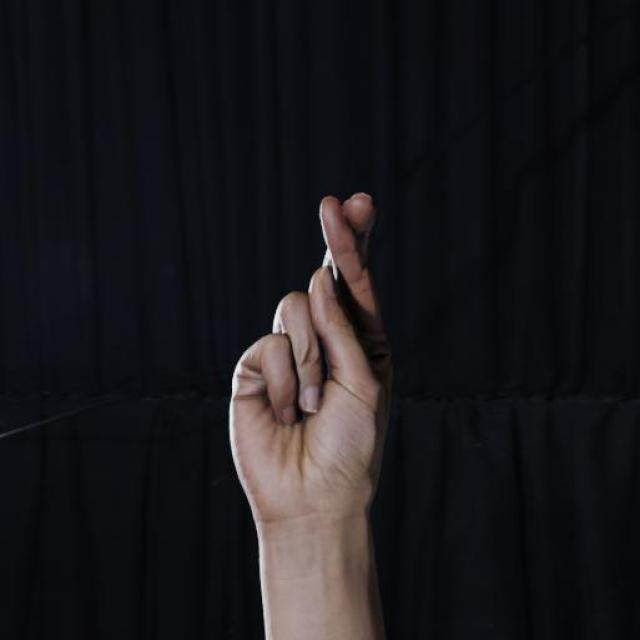R: (223, 188, 397, 532)
